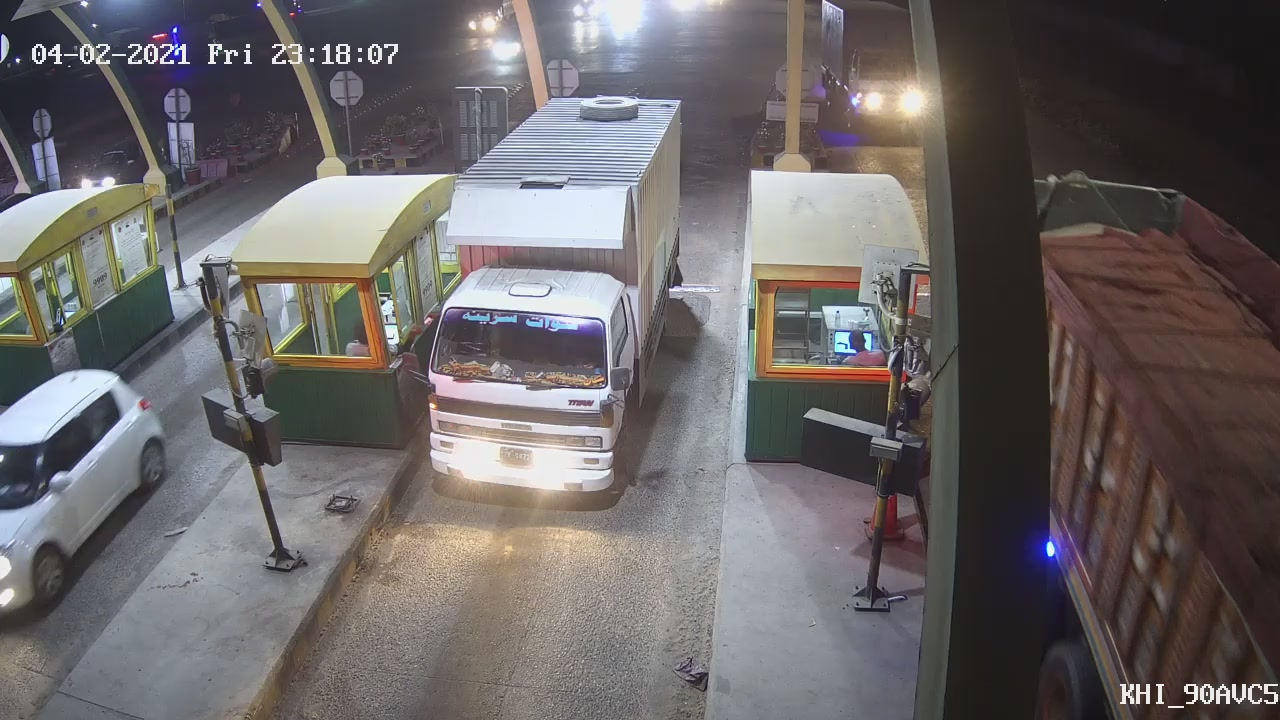F5: (400, 86, 683, 503)
